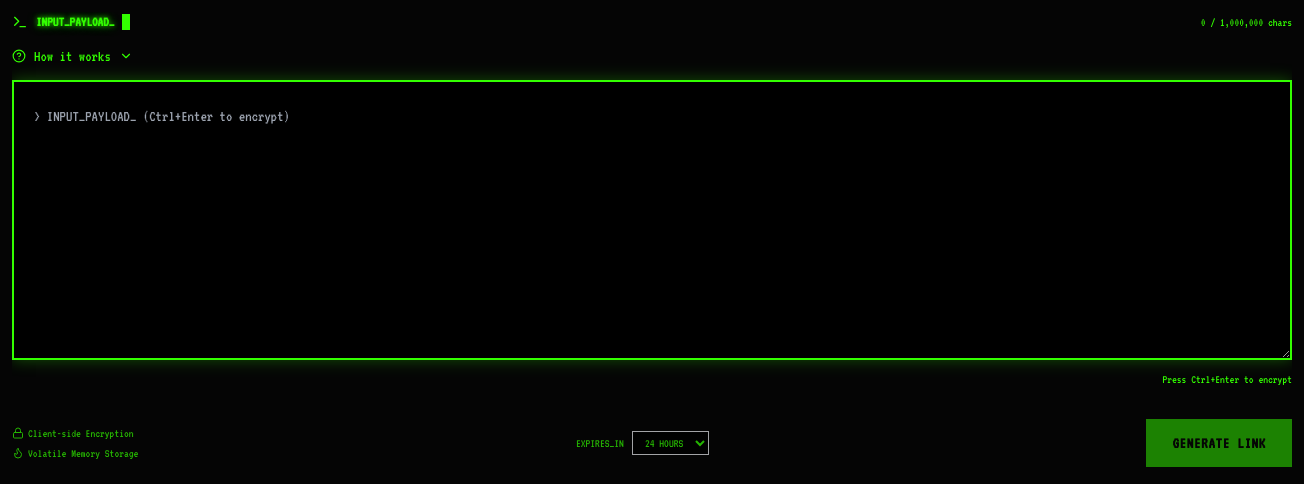
Test: CreateView › should enable button when text is entered
The width and height of the screenshot is (1304, 484).
Type "test secret" into the text box at (652, 220), box [12, 80, 1292, 360]
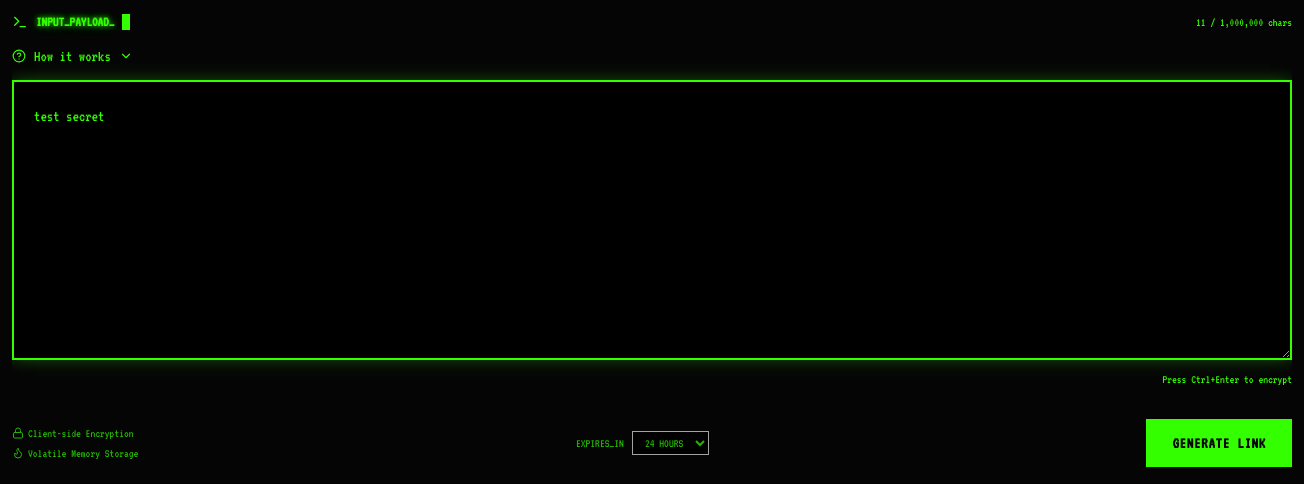
expect the button "GENERATE LINK" is enabled: met, box [1146, 419, 1292, 467]
